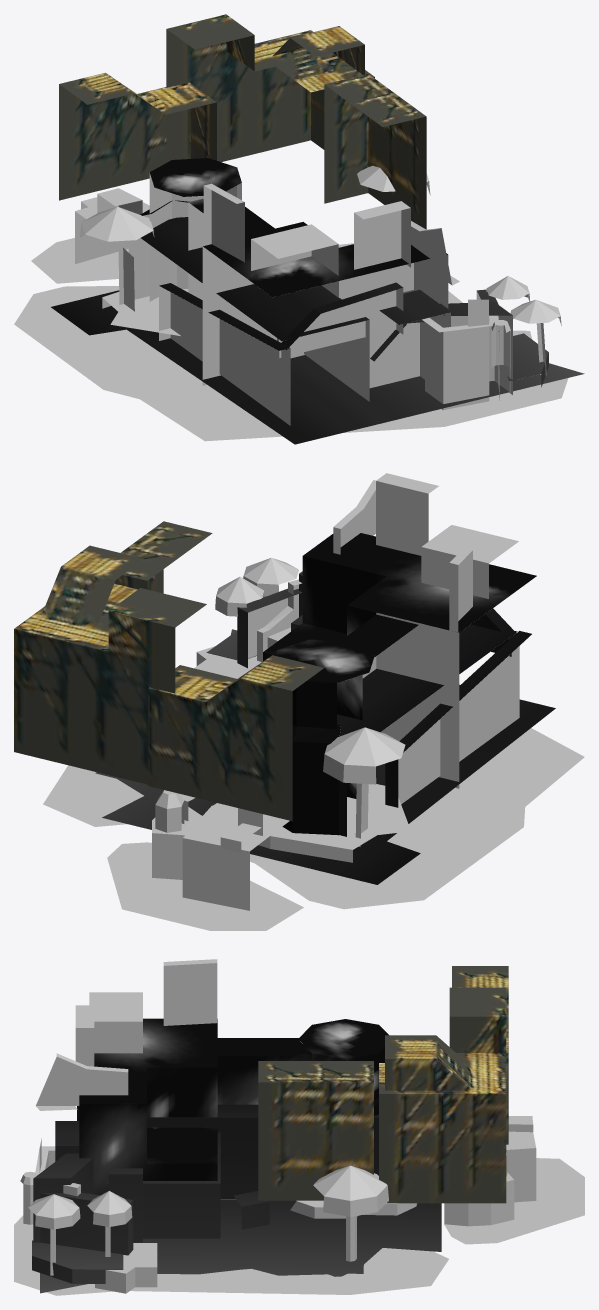
The model's file is T_WareHouse_01.fbx.
3 renders of one model, top to bottom at view 1: azimuth 30°, elevation 25°; view 2: azimuth 150°, elevation 25°; view 3: azimuth 270°, elevation 25°, orthographic. The views are drawn at different scales.
Visible parts, largest first — view 1: T_Warehouse_01, FX_BuildUnLock_Glow, T_BuildForm_01, T_Warehouse_01_Lock, T_BuildForm_03, T_BuildForm_02 (3), FX_Territory_NightGlow, T_WareFreight_01; view 2: T_Warehouse_01, T_BuildForm_01, FX_Territory_NightGlow, T_BuildForm_03, FX_BuildUnLock_Glow, T_WareFreight_01, T_Warehouse_01_Lock, T_BuildForm_02 (3); view 3: FX_BuildUnLock_Glow, T_Warehouse_01, FX_Territory_NightGlow, T_BuildForm_01, T_BuildForm_02 (3), T_WareFreight_01, T_BuildForm_03.
Part boxes in pixels (left/top/right/bottom): T_Warehouse_01: left=14, top=165, right=568, bottom=441; FX_BuildUnLock_Glow: left=51, top=217, right=584, bottom=444; T_BuildForm_01: left=166, top=14, right=374, bottom=162; T_Warehouse_01_Lock: left=97, top=238, right=512, bottom=425; T_BuildForm_03: left=59, top=72, right=216, bottom=200; T_BuildForm_02 (3): left=324, top=74, right=426, bottom=229; FX_Territory_NightGlow: left=140, top=158, right=447, bottom=297; T_WareFreight_01: left=31, top=188, right=149, bottom=283; T_Warehouse_01: left=43, top=473, right=584, bottom=909; T_BuildForm_01: left=14, top=545, right=206, bottom=784; FX_Territory_NightGlow: left=263, top=533, right=536, bottom=835; T_BuildForm_03: left=148, top=655, right=324, bottom=821; FX_BuildUnLock_Glow: left=95, top=571, right=555, bottom=884; T_WareFreight_01: left=107, top=790, right=303, bottom=930; T_Warehouse_01_Lock: left=248, top=598, right=549, bottom=821; T_BuildForm_02 (3): left=114, top=521, right=212, bottom=593; FX_BuildUnLock_Glow: left=32, top=1104, right=441, bottom=1293; T_Warehouse_01: left=14, top=959, right=448, bottom=1295; FX_Territory_NightGlow: left=79, top=1018, right=388, bottom=1195; T_BuildForm_01: left=379, top=987, right=506, bottom=1203; T_BuildForm_02 (3): left=258, top=1061, right=373, bottom=1200; T_WareFreight_01: left=444, top=1116, right=584, bottom=1244; T_BuildForm_03: left=452, top=966, right=508, bottom=1144.
Size of the model in its own units: 8.49 by 5.2 by 11.38.
